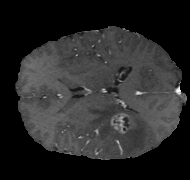Edema: (79, 105, 148, 158)
EnhancingTumors: (108, 115, 139, 139)
Necrosis: (113, 113, 136, 136)
